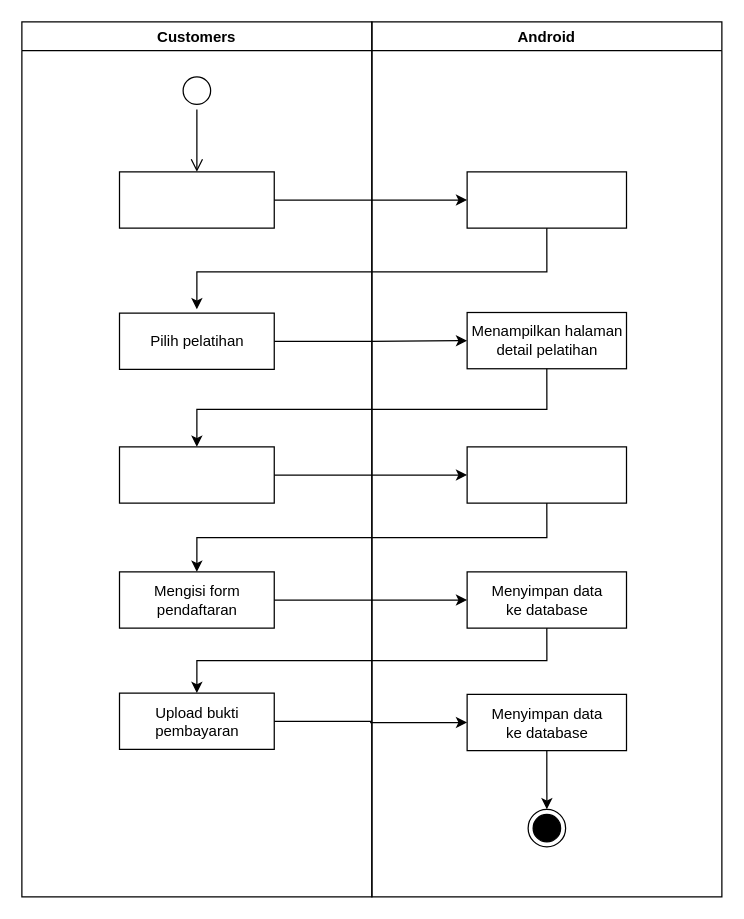
Some shapes in this 744 by 919 pixel diagram are drawn without their labels. Each missing label, with the box of its shape:
Akses halaman list pelatihan: (118, 171, 274, 228)
Daftar pelatihan: (118, 446, 274, 503)
Menampilkan form daftar pelatihan: (466, 446, 626, 503)
Menampilkan halaman list pelatihan: (466, 171, 626, 228)
